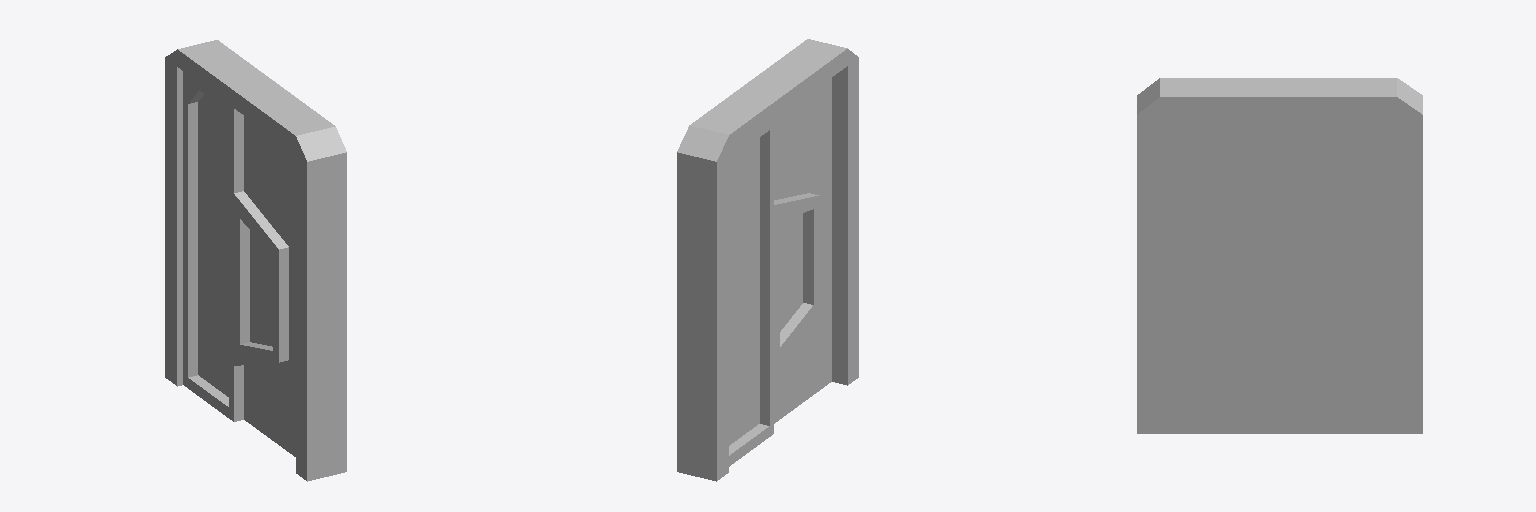
The model's file is EngineRoom_AntiRadDoor.obj.
3 views of the same model, side by side, from view 1: azimuth 30°, elevation 25°; view 2: azimuth 150°, elevation 25°; view 3: azimuth 270°, elevation 25° (orthographic).
Parts seen in each view (by area): view 1: default; view 2: default; view 3: default.
Part boxes in pixels (bbox=[...]): default: bbox=[165, 40, 346, 481]; default: bbox=[677, 39, 858, 481]; default: bbox=[1137, 78, 1422, 433].
Size of the model in its own units: 2.71 by 21.9 by 16.78.